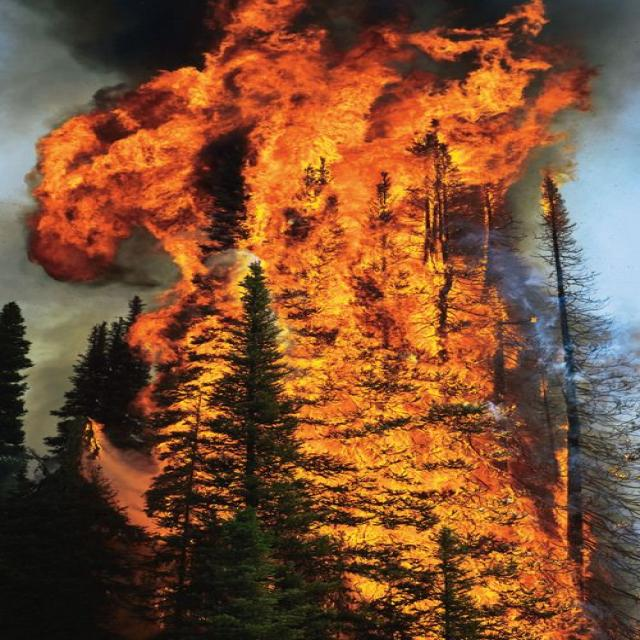Fire: (52, 37, 590, 640)
Smoke: (12, 0, 609, 90)
